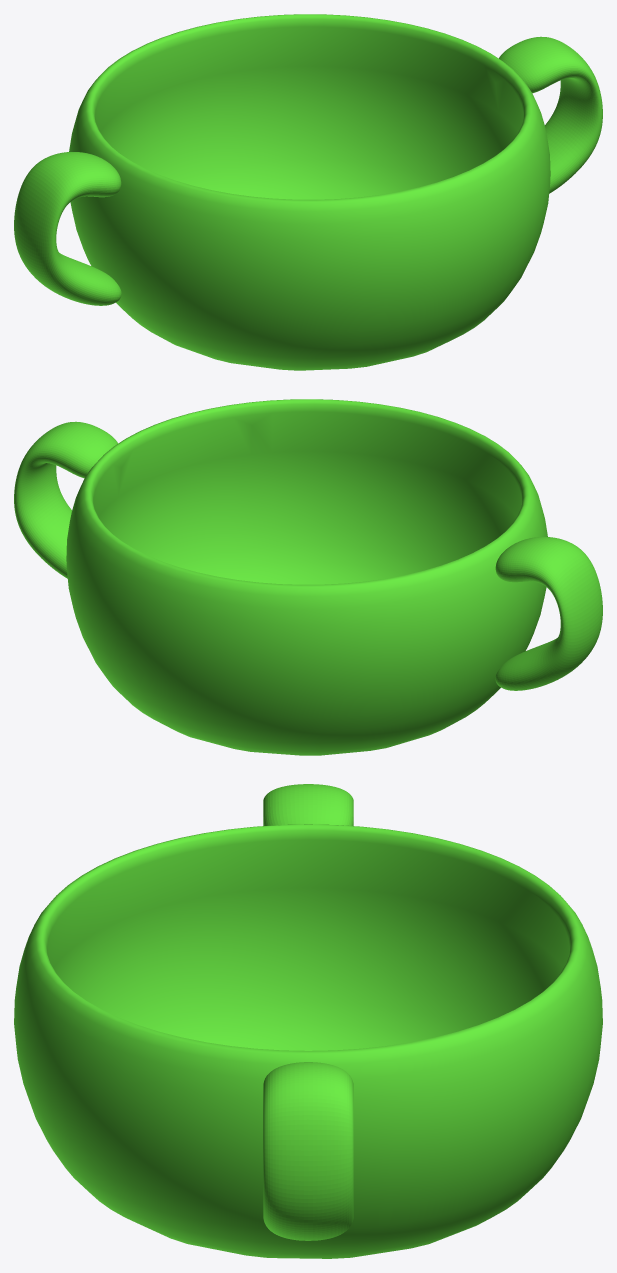
The model's file is bowl-transformed.glb.
The picture shows the model from 3 angles, top to bottom: view 1: azimuth 30°, elevation 25°; view 2: azimuth 150°, elevation 25°; view 3: azimuth 270°, elevation 25°; orthographic projection. The views are drawn at different scales.
Parts seen in each view (by area): view 1: Vert; view 2: Vert; view 3: Vert.
Boxes of the visible parts, bbox=[...] form: Vert: bbox=[14, 14, 602, 370]; Vert: bbox=[14, 399, 602, 755]; Vert: bbox=[14, 784, 602, 1258].
Size of the model in its own units: 6.44 by 2.34 by 4.76.
